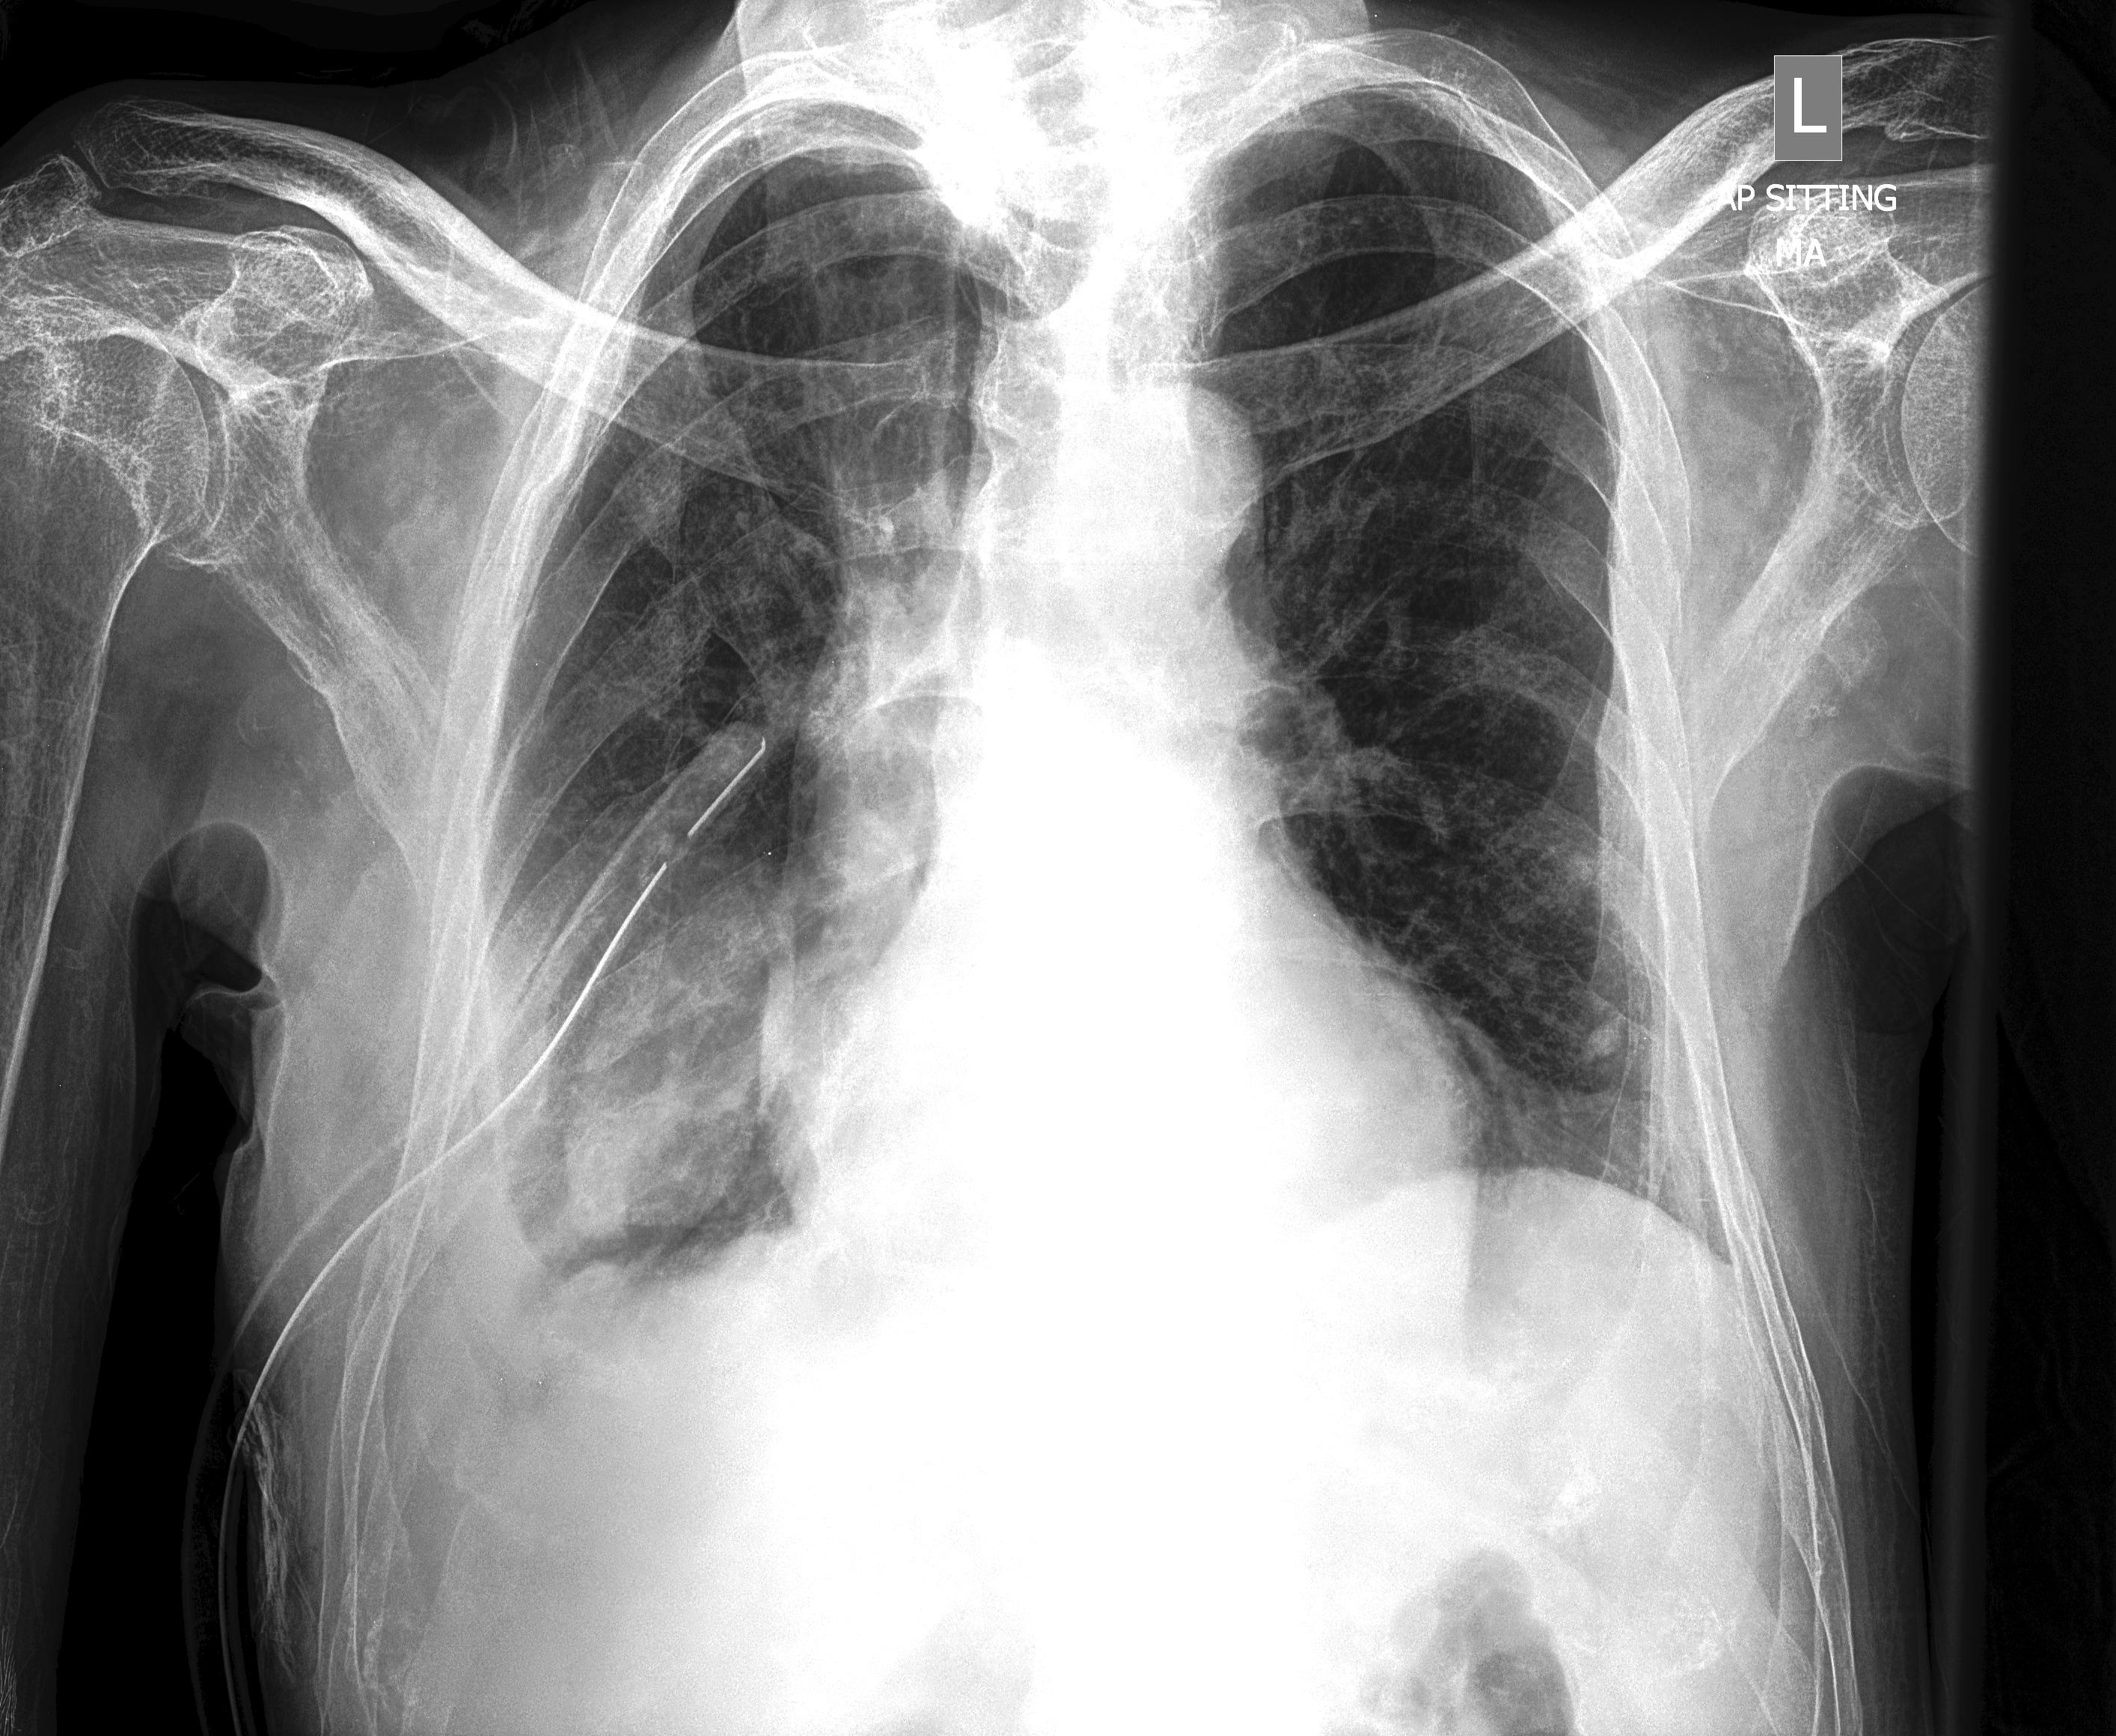Pleural Effusion: (344, 1163, 710, 1555)
